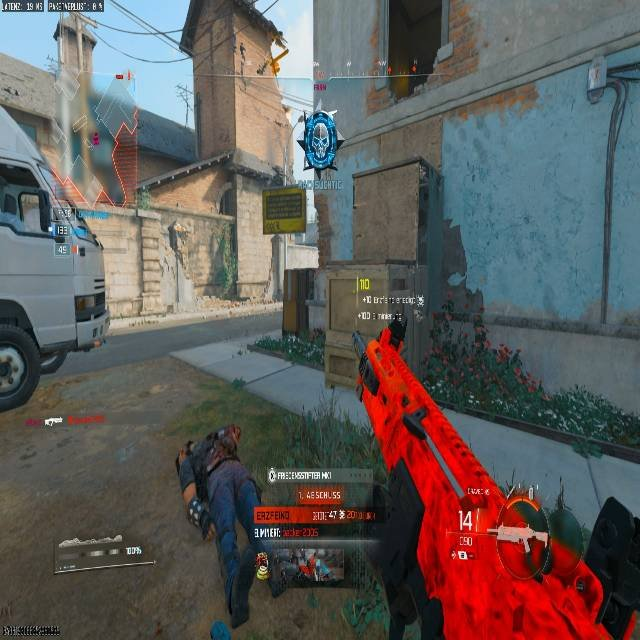player: (176, 424, 264, 639)
